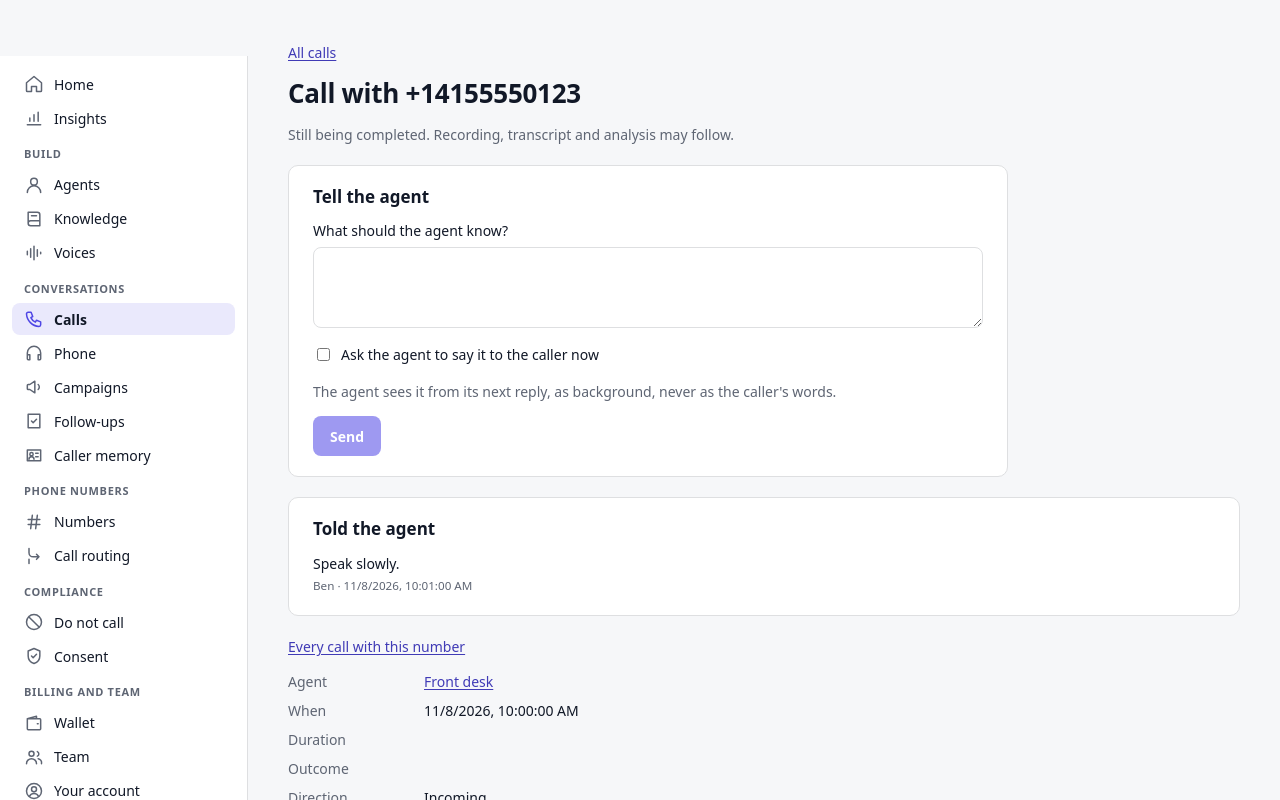
Test case: telling the agent › says how each note reaches the agent, clears the box and adds the note at the top of the list
Type "First note." into the text box labelled "What should the agent know?" at coordinates (648, 288), box [313,247,983,328]
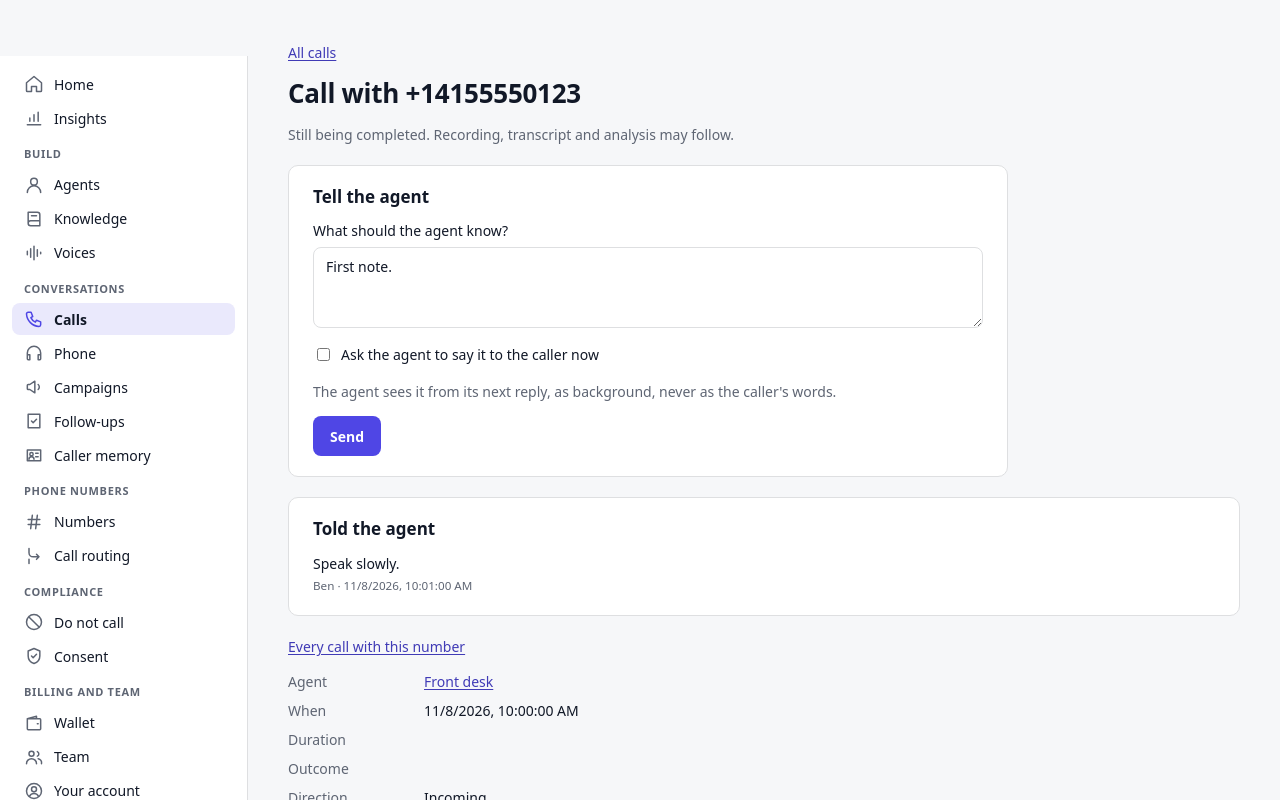
Click the button "Send" at coordinates (347, 436), box [313,416,381,456]
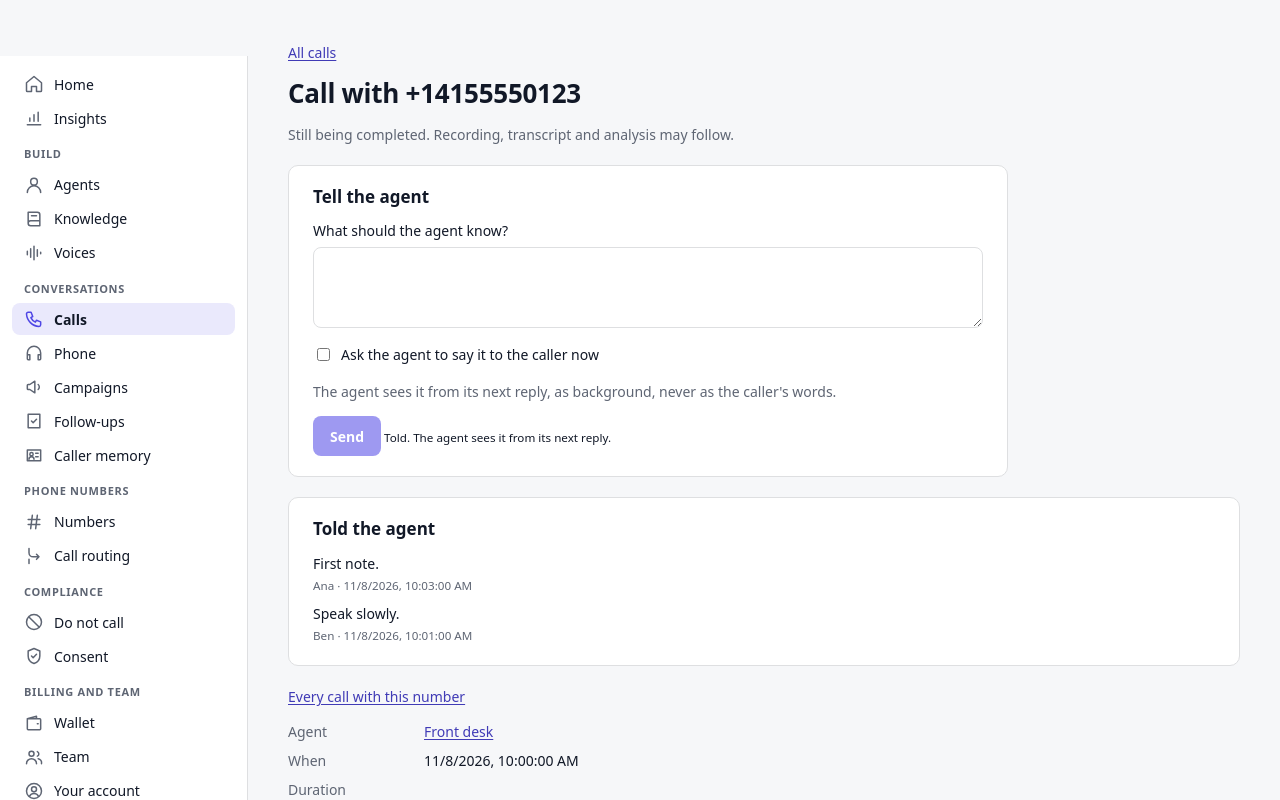
Expected: the message "Told. The agent sees it from its next reply." is shown, [381,430,611,445]
Expected: the text box labelled "What should the agent know?" is empty
Expected: the text with class "note-body" reads "First note.", [313,554,379,573]
Type "Second note." into the text box labelled "What should the agent know?" at coordinates (648, 288), box [313,247,983,328]
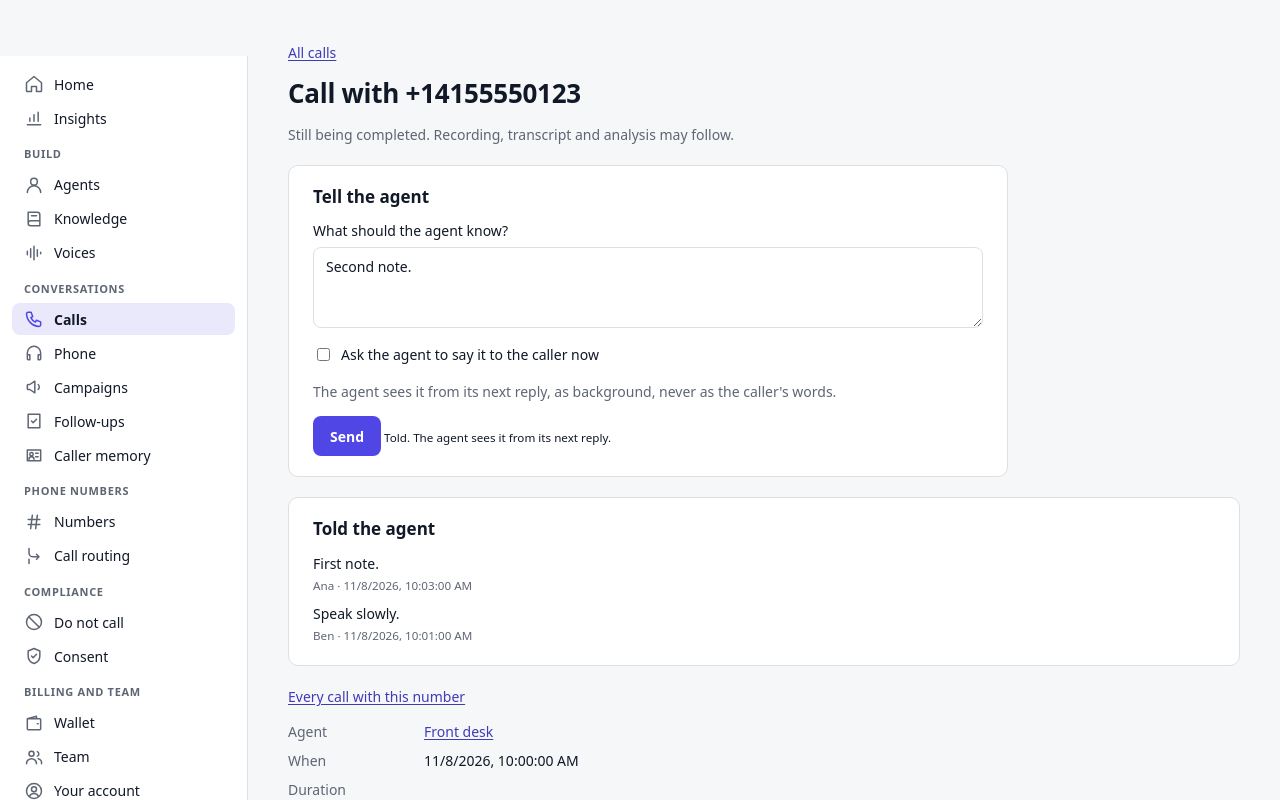
Click the button "Send" at coordinates (347, 436), box [313,416,381,456]
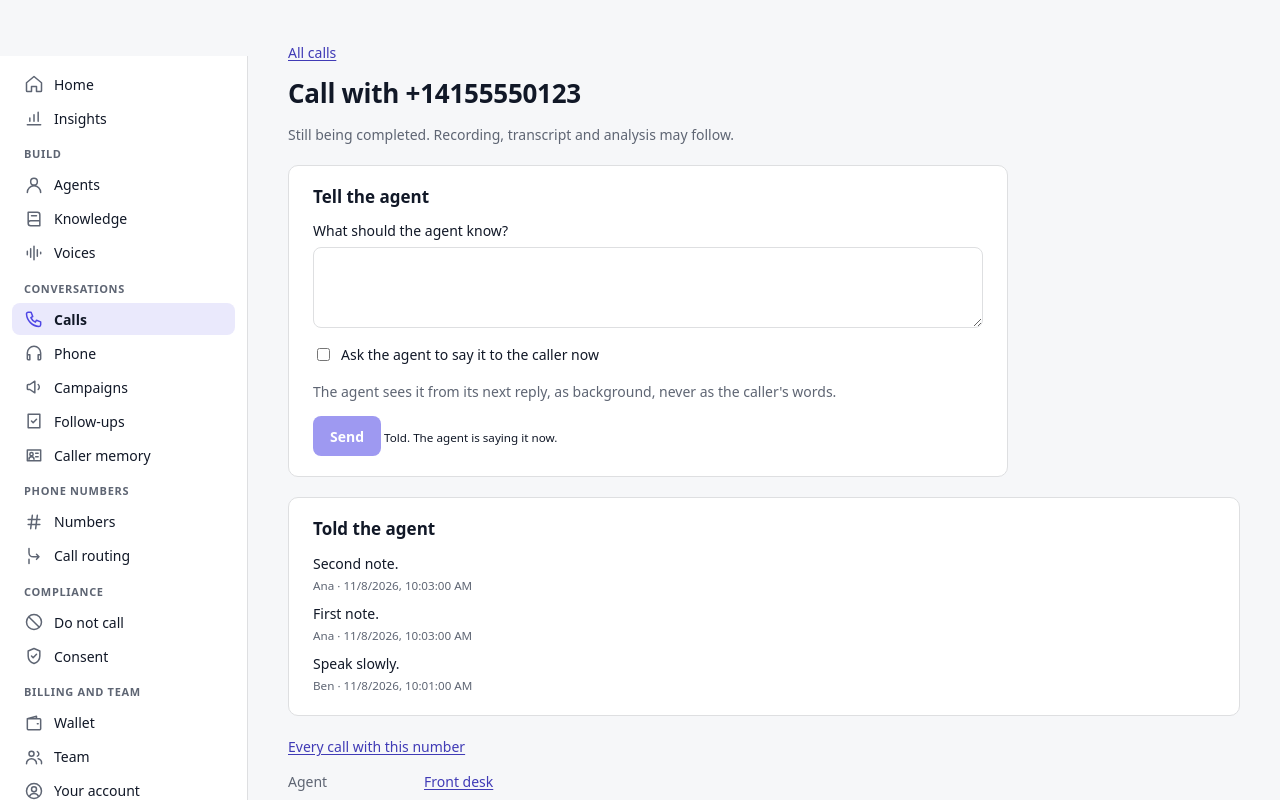
Expected: the message "Told. The agent is saying it now." is shown, [381,430,557,445]
Expected: the text box labelled "What should the agent know?" is empty
Expected: the text with class "note-body" reads "Second note.", [313,554,398,573]
Type "Third note." into the text box labelled "What should the agent know?" at coordinates (648, 288), box [313,247,983,328]
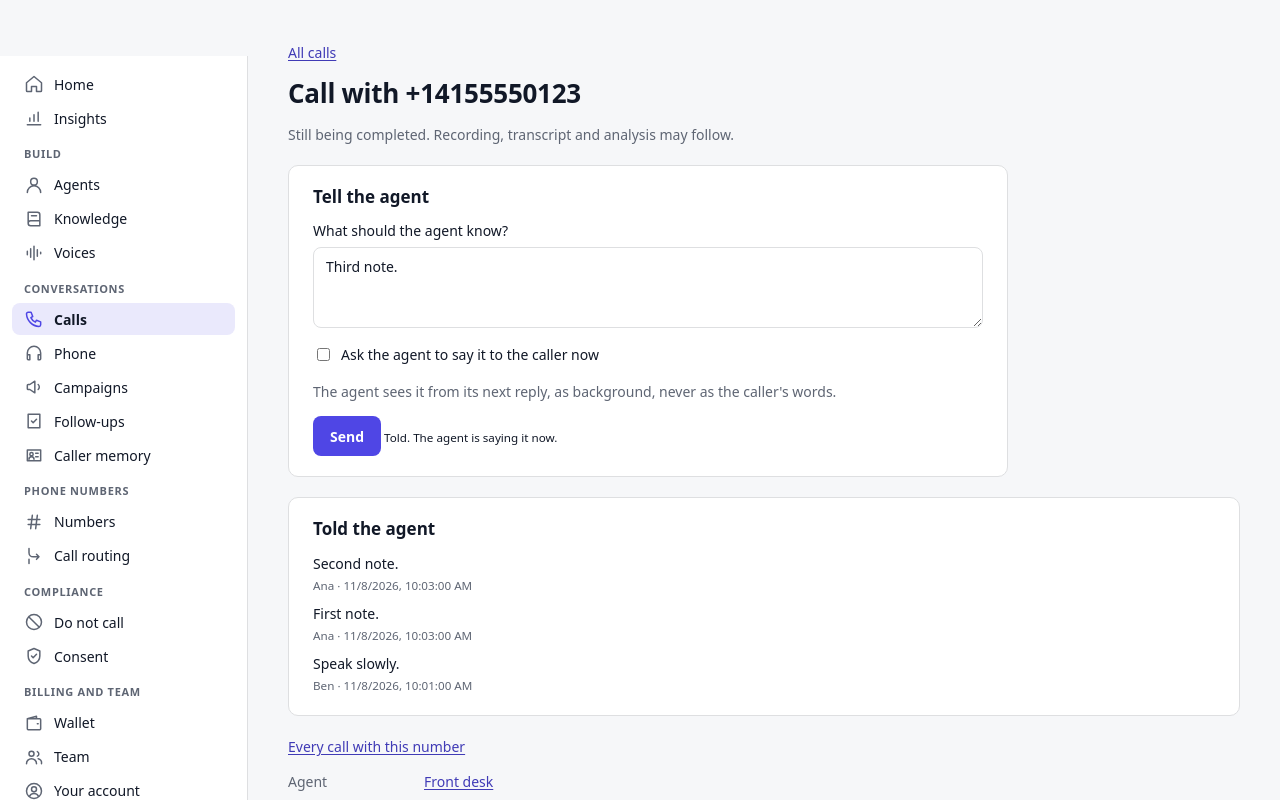
Click the button "Send" at coordinates (347, 436), box [313,416,381,456]
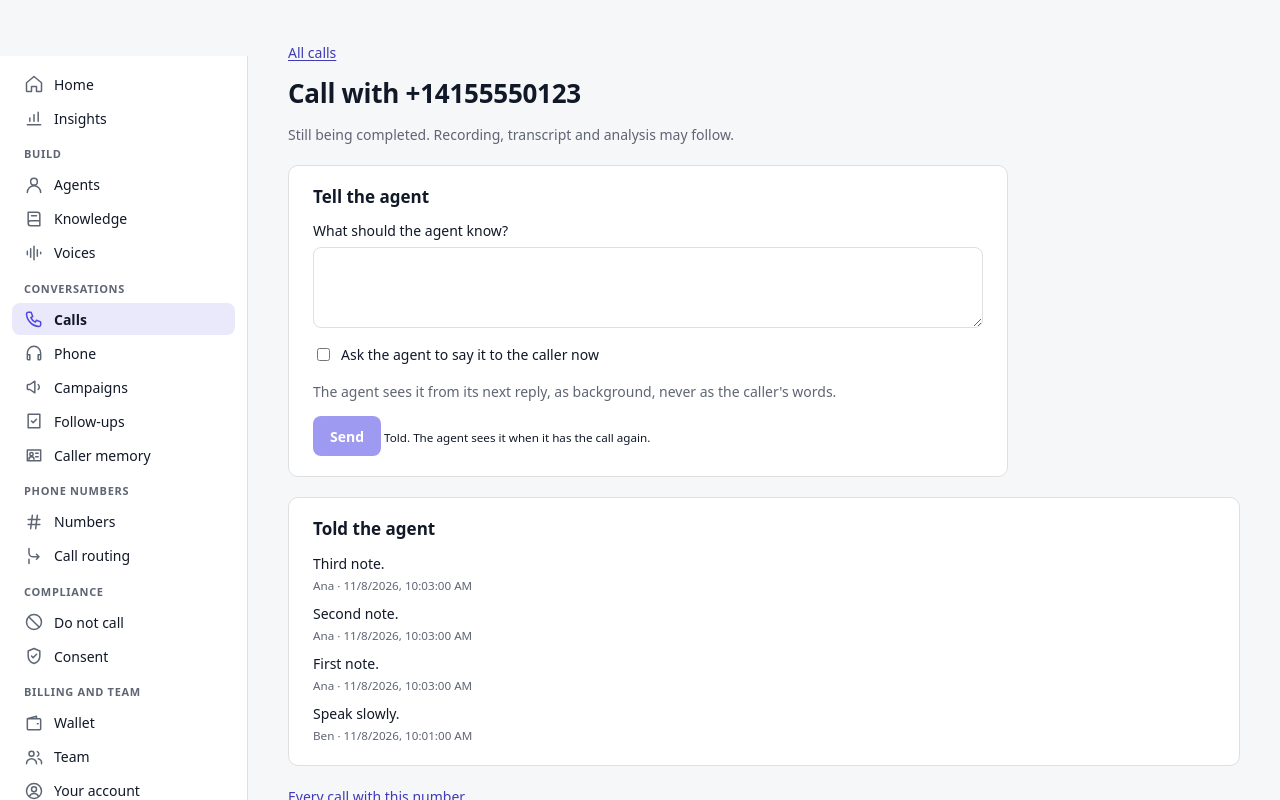
Expected: the message "Told. The agent sees it when it has the call again." is shown, [381,430,650,445]
Expected: the text box labelled "What should the agent know?" is empty, [313,247,983,328]
Expected: the text with class "note-body" reads "Third note.", [313,554,385,573]
